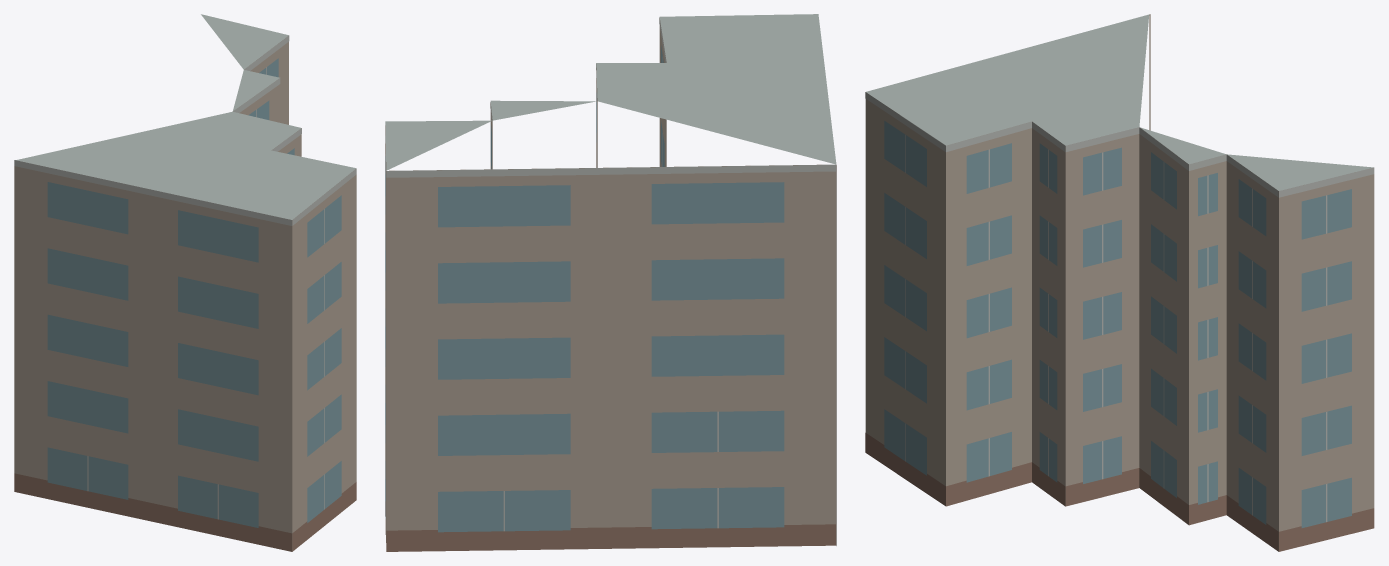
Rendered from survey-upis-32869496.glb.
3 views of the same model, side by side, from view 1: azimuth 30°, elevation 25°; view 2: azimuth 150°, elevation 25°; view 3: azimuth 270°, elevation 25° (orthographic). The views are drawn at different scales.
Visible parts, largest first — view 1: survey-upis-32869496.tmp; view 2: survey-upis-32869496.tmp; view 3: survey-upis-32869496.tmp.
Part boxes in pixels (x1,y1,x2,y2): survey-upis-32869496.tmp: (14,14,356,551); survey-upis-32869496.tmp: (385,14,836,551); survey-upis-32869496.tmp: (865,14,1374,551).
Size of the model in its own units: 14.01 by 13.3 by 17.01.
